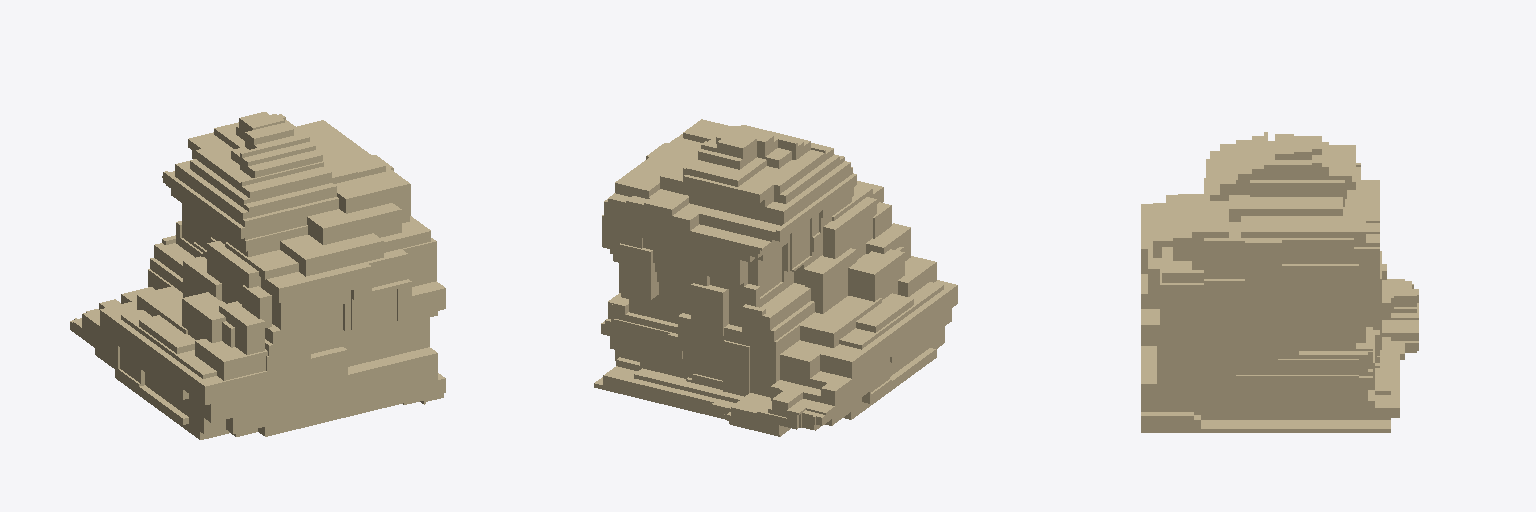
The picture shows the model from 3 angles: view 1: azimuth 30°, elevation 25°; view 2: azimuth 150°, elevation 25°; view 3: azimuth 270°, elevation 25°; orthographic projection.
Parts seen in each view (by area): view 1: SquareClood; view 2: SquareClood; view 3: SquareClood.
Boxes of the visible parts, box(x1,y1,x2,y2) form: SquareClood: box(70, 112, 445, 439); SquareClood: box(594, 119, 957, 436); SquareClood: box(1141, 132, 1418, 432).
Size of the model in its own units: 120 by 116 by 120.
Materials: 1 (1 with a texture image).